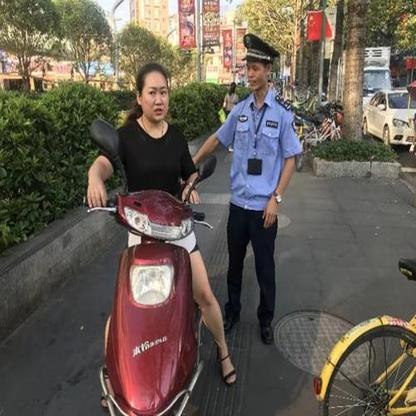target: (80, 60, 236, 407)
